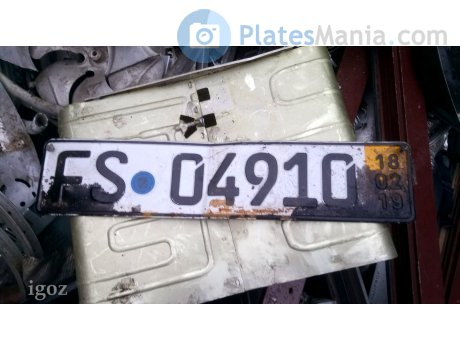License Plates: (59, 151, 351, 206)
